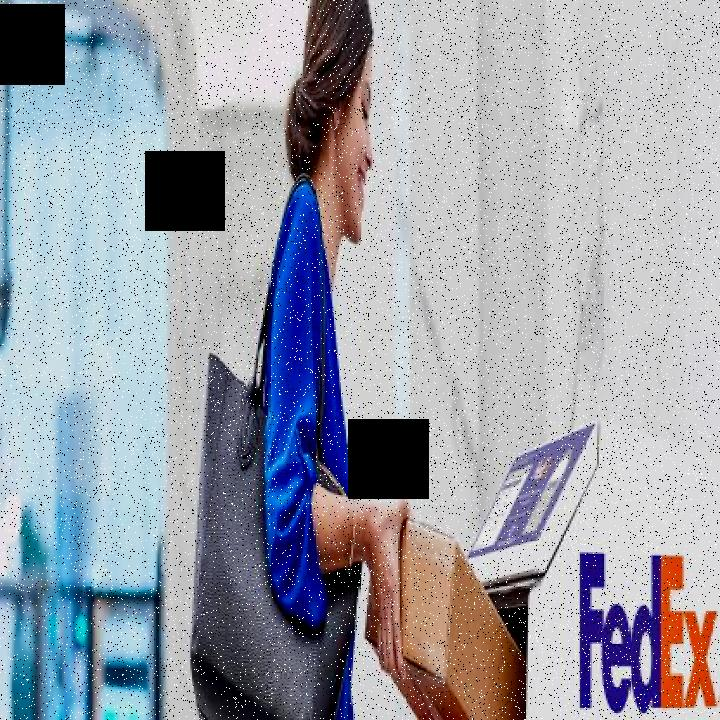box: (362, 473, 538, 719)
